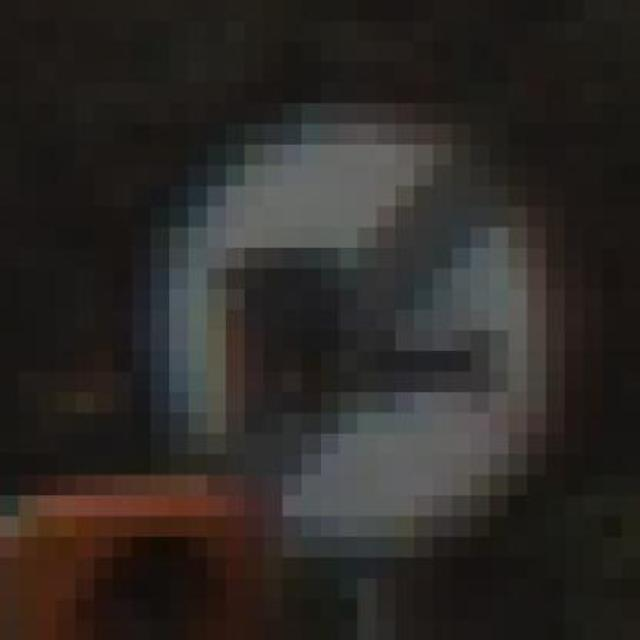Overtaking by trucks is prohibited: (132, 82, 583, 600)
